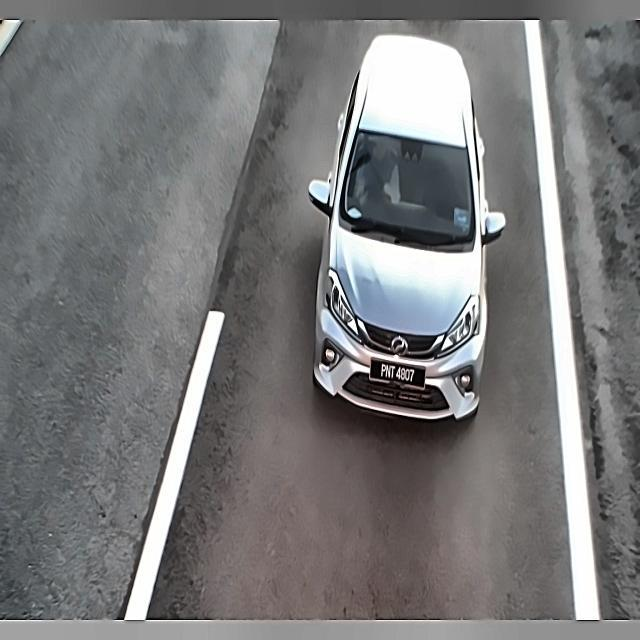car: (371, 349, 426, 392)
